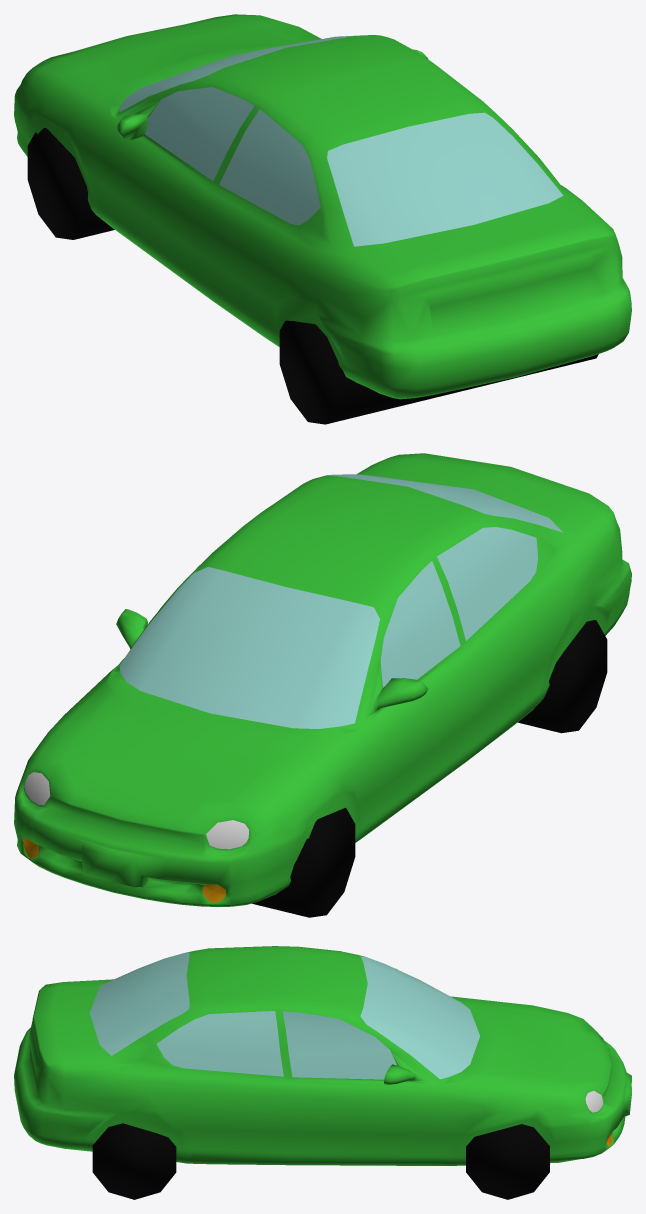
The model's file is car.glb.
The picture shows the model from 3 angles, top to bottom: view 1: azimuth 30°, elevation 25°; view 2: azimuth 150°, elevation 25°; view 3: azimuth 270°, elevation 25°; orthographic projection. The views are drawn at different scales.
Visible parts, largest first — view 1: mesh-body, mesh-windows, mesh-tires; view 2: mesh-body, mesh-windows, mesh-tires, mesh-hlights; view 3: mesh-body, mesh-windows, mesh-tires.
Part boxes in pixels (x1,y1,x2,y2): mesh-body: (14,14,631,399); mesh-windows: (119,35,563,246); mesh-tires: (27,128,598,424); mesh-body: (14,453,631,906); mesh-windows: (119,474,563,728); mesh-tires: (252,620,607,917); mesh-hlights: (24,772,248,849); mesh-body: (14,946,631,1165); mesh-windows: (89,952,479,1079); mesh-tires: (92,1123,549,1199).
Bounding box in the file's own units: 5.1 × 3.85 × 12.
